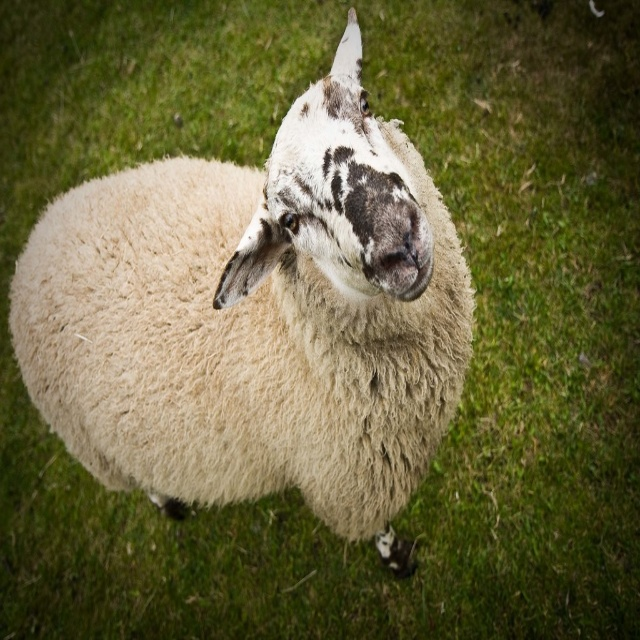Sheep: (7, 8, 475, 572)
